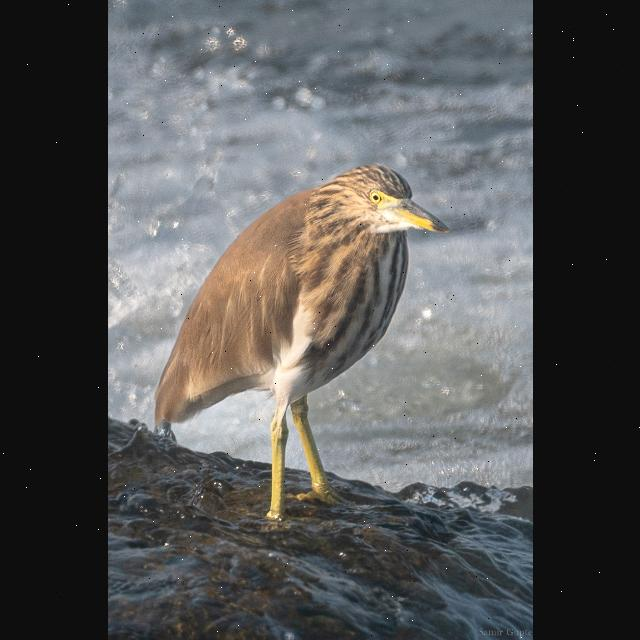heron: (145, 152, 463, 544)
